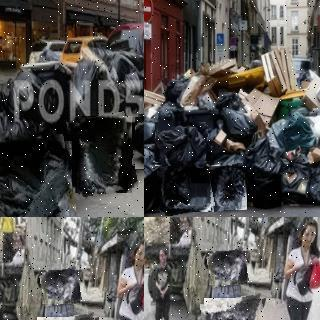Garbage: (0, 137, 75, 217), (70, 114, 135, 195), (242, 135, 283, 208), (158, 163, 213, 214), (154, 121, 207, 167), (207, 165, 249, 211), (202, 295, 268, 320), (41, 269, 81, 306), (208, 250, 248, 287), (144, 146, 160, 217), (133, 115, 144, 170)
